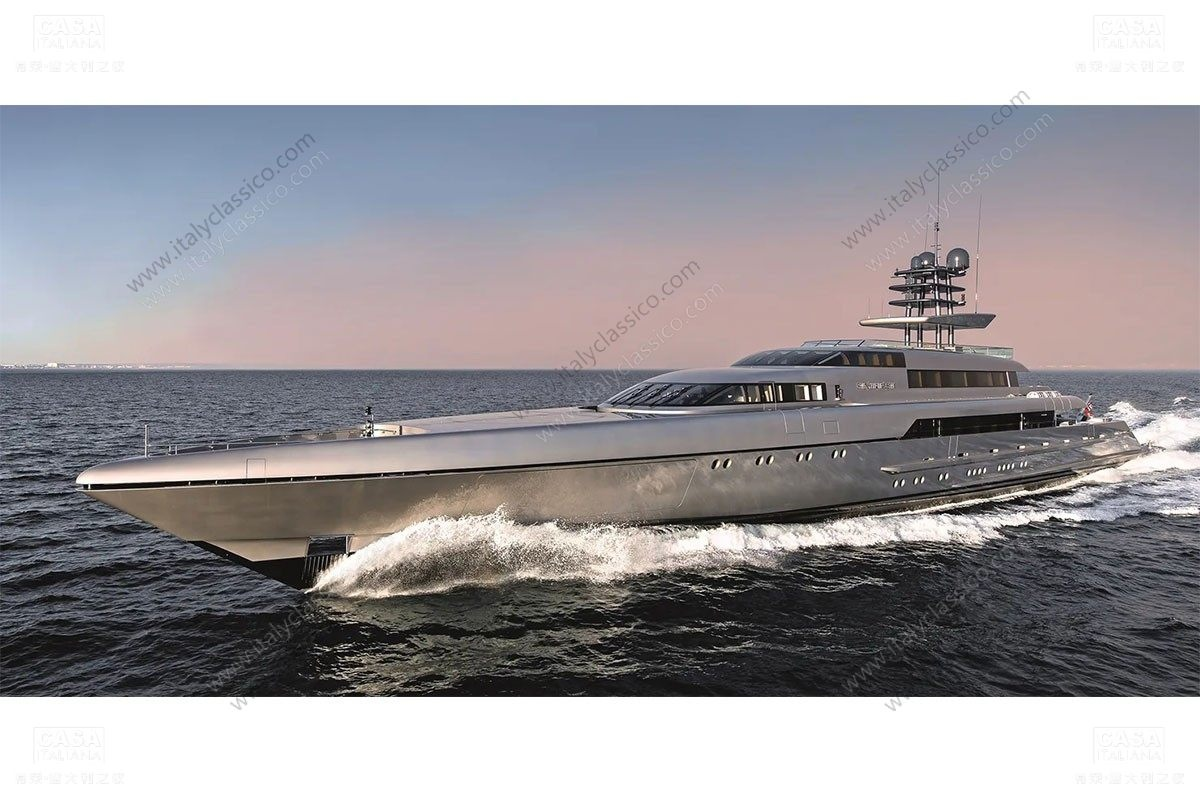yacht: (71, 222, 1143, 597)
